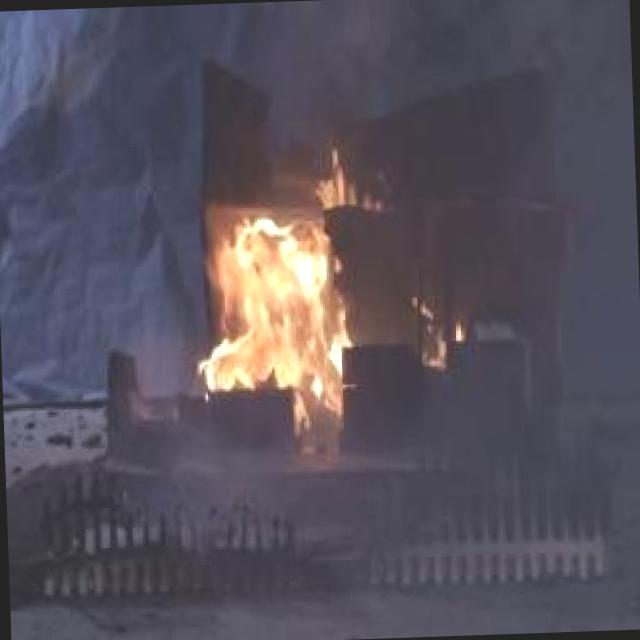fire: (196, 150, 387, 430)
